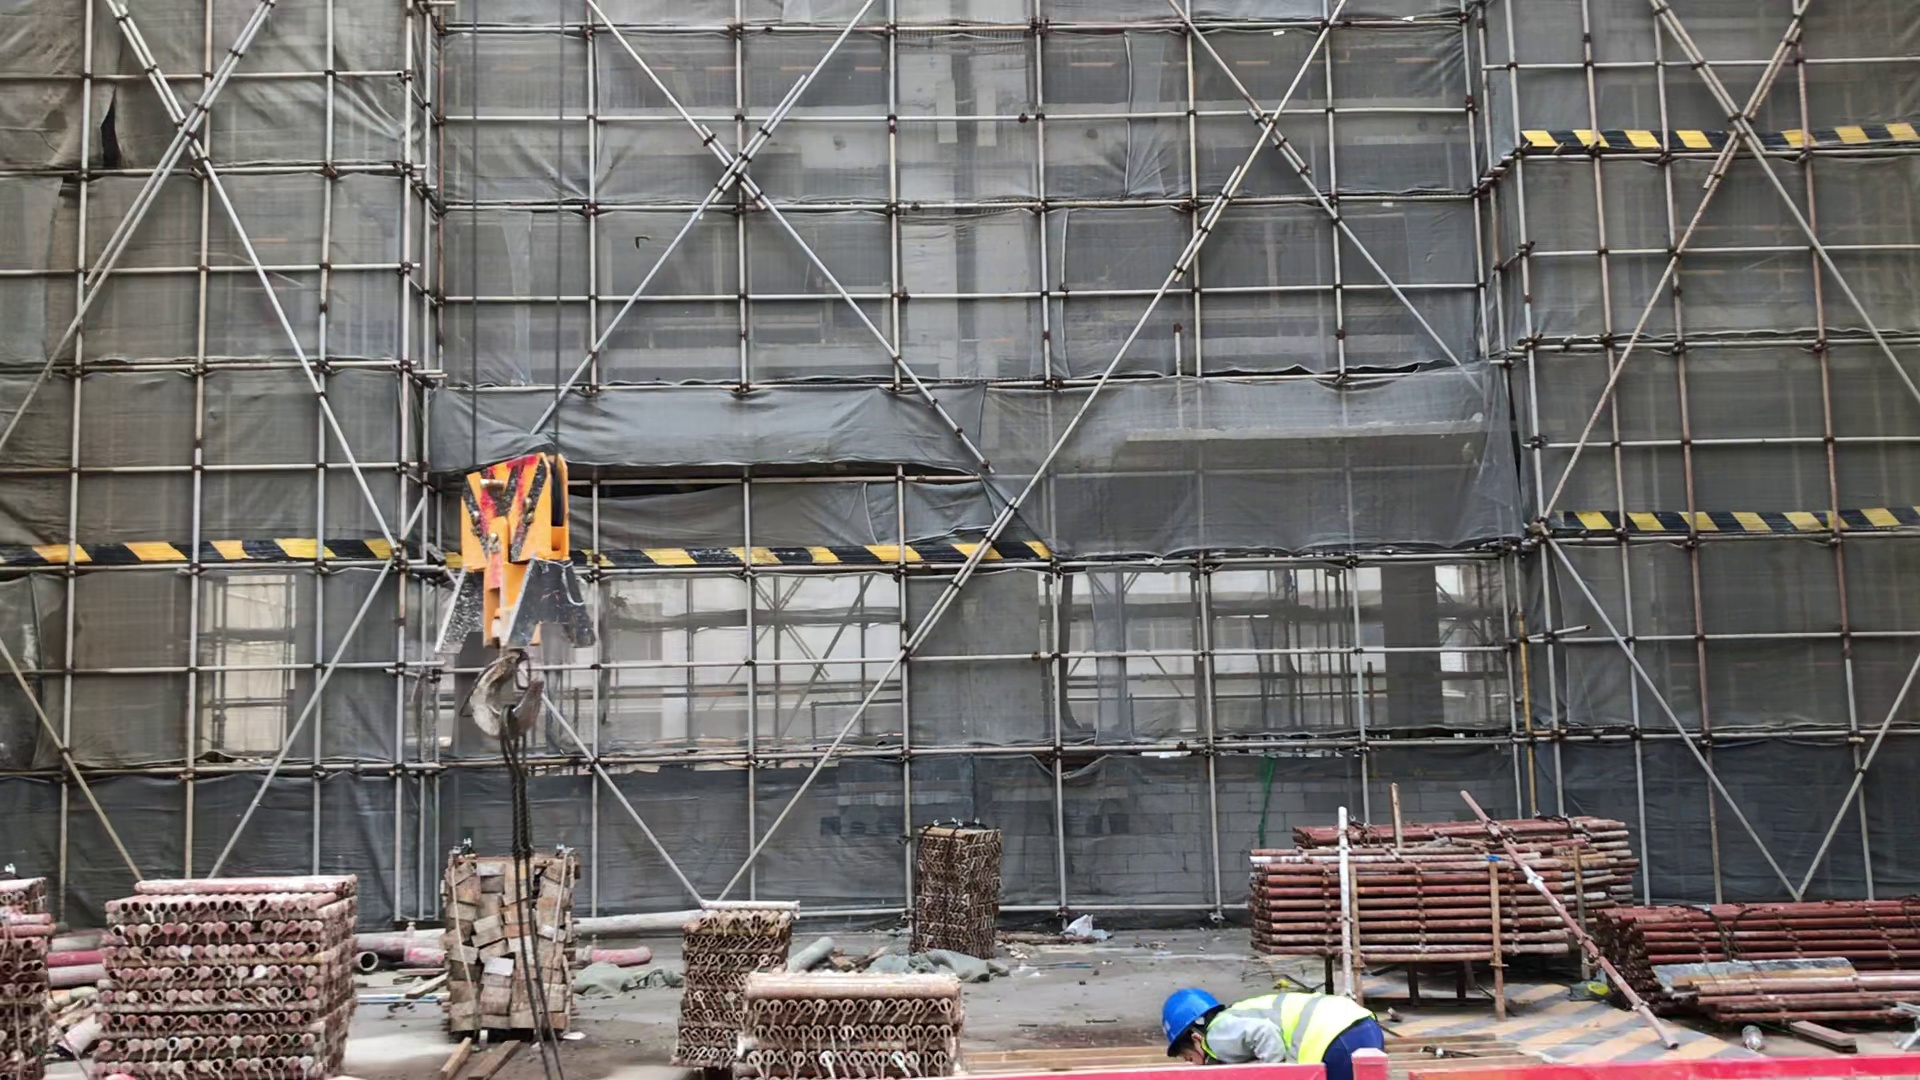hook: (456, 453, 570, 741)
person: (1159, 989, 1393, 1080)
scaffold: (1246, 820, 1638, 961), (97, 879, 365, 1073), (1610, 903, 1920, 998), (739, 976, 962, 1080), (682, 899, 785, 1064), (1, 870, 50, 1080)
vest: (1232, 993, 1377, 1066)
